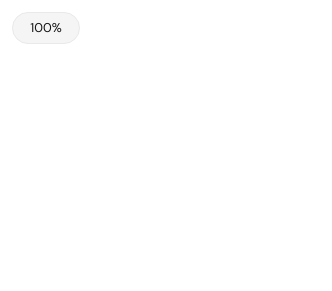
Scenario: ZoomDropdown › applies a preset and closes
Click the button with test id "zoom-field".
click(46, 28)  # box [12,12,80,44]
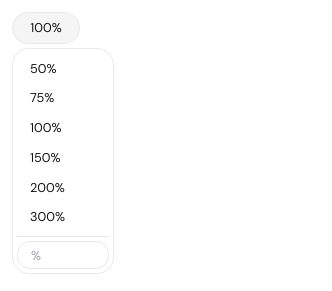
Click the button "150%".
click(63, 157)  # box [17,142,109,172]
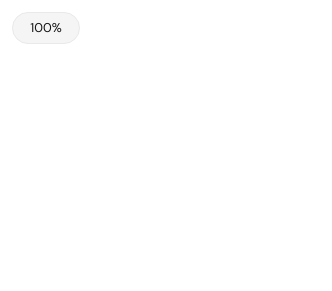
Now the field with test id "zoom-input" is gone
